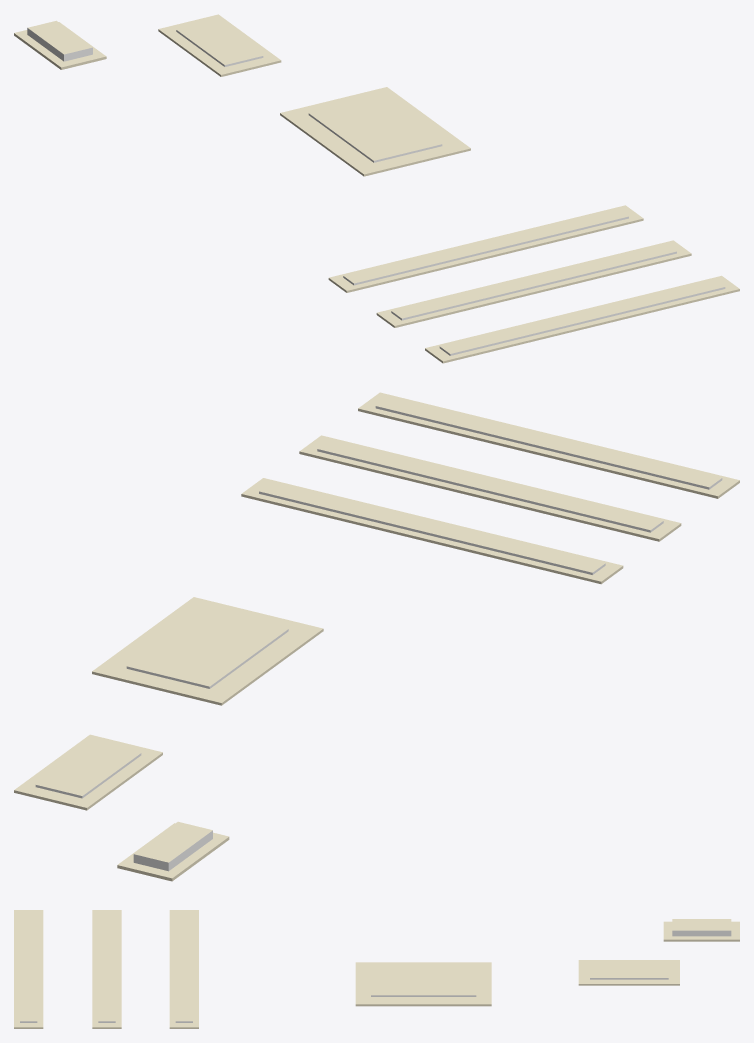
The model's file is CeilingBlock01.FBX.
The picture shows the model from 3 angles, top to bottom: view 1: azimuth 30°, elevation 25°; view 2: azimuth 150°, elevation 25°; view 3: azimuth 270°, elevation 25°; orthographic projection. The views are drawn at different scales.
Parts seen in each view (by area): view 1: Box030, Box032, Box031, Box033, Box028, Box029; view 2: Box030, Box032, Box031, Box033, Box028, Box029; view 3: Box030, Box031, Box032, Box033, Box028, Box029.
Boxes of the visible parts, <box> form: Box030: <box>280,87,470,176</box>; Box032: <box>376,240,691,327</box>; Box031: <box>328,205,643,292</box>; Box033: <box>425,275,739,363</box>; Box028: <box>158,14,281,76</box>; Box029: <box>14,20,106,69</box>; Box030: <box>92,597,323,705</box>; Box032: <box>299,435,681,541</box>; Box031: <box>241,478,623,584</box>; Box033: <box>358,392,739,498</box>; Box028: <box>14,734,162,810</box>; Box029: <box>117,821,229,881</box>; Box030: <box>355,962,491,1006</box>; Box031: <box>169,910,198,1028</box>; Box032: <box>92,910,121,1028</box>; Box033: <box>14,910,43,1028</box>; Box028: <box>578,960,679,985</box>; Box029: <box>663,919,739,941</box>.
Bounding box in the file's own units: 1405 × 43.74 × 3677.
